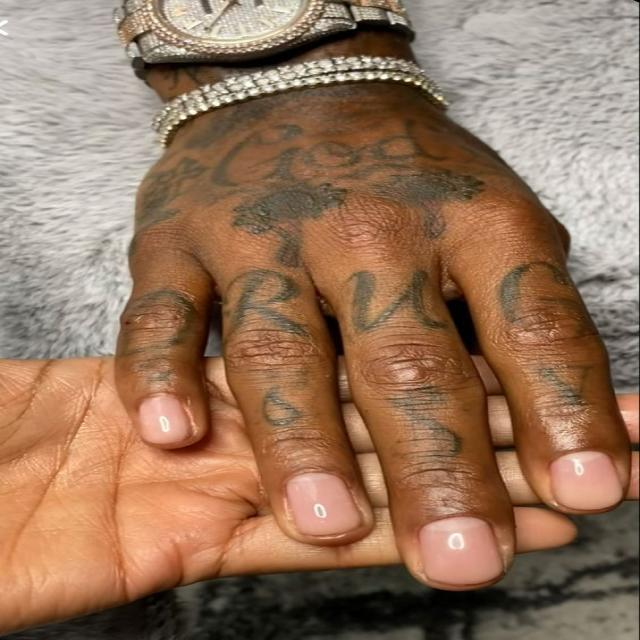Fingernail: (419, 516, 503, 585), (286, 473, 360, 536), (550, 451, 623, 510), (139, 395, 188, 445)
